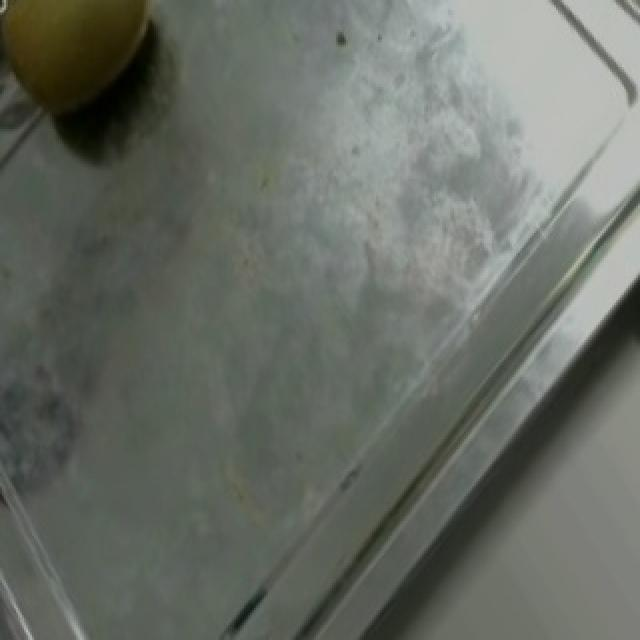Fruit: (0, 0, 180, 127)
